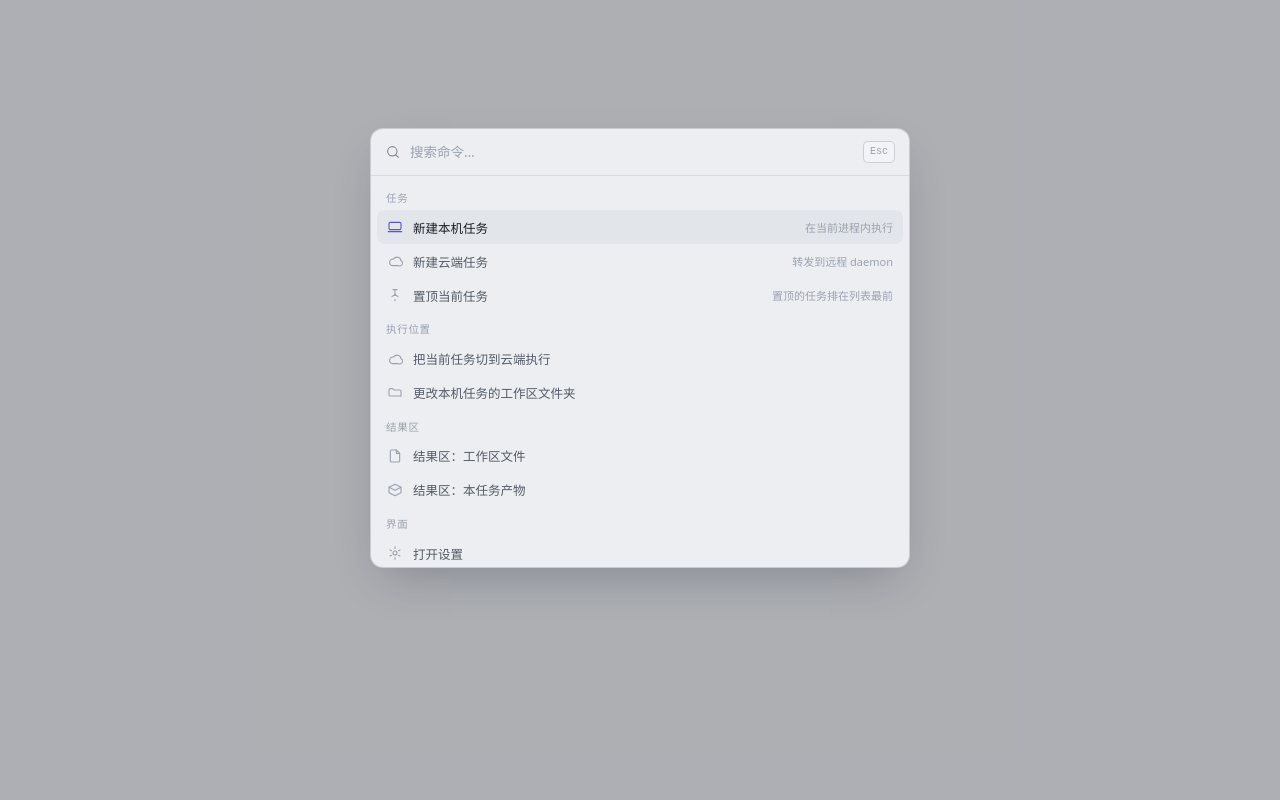
搜索 › 没有匹配时给出空状态
In the field with placeholder "搜索命令…": coordinates (632, 152) [410, 141, 854, 163], type "zzzz"
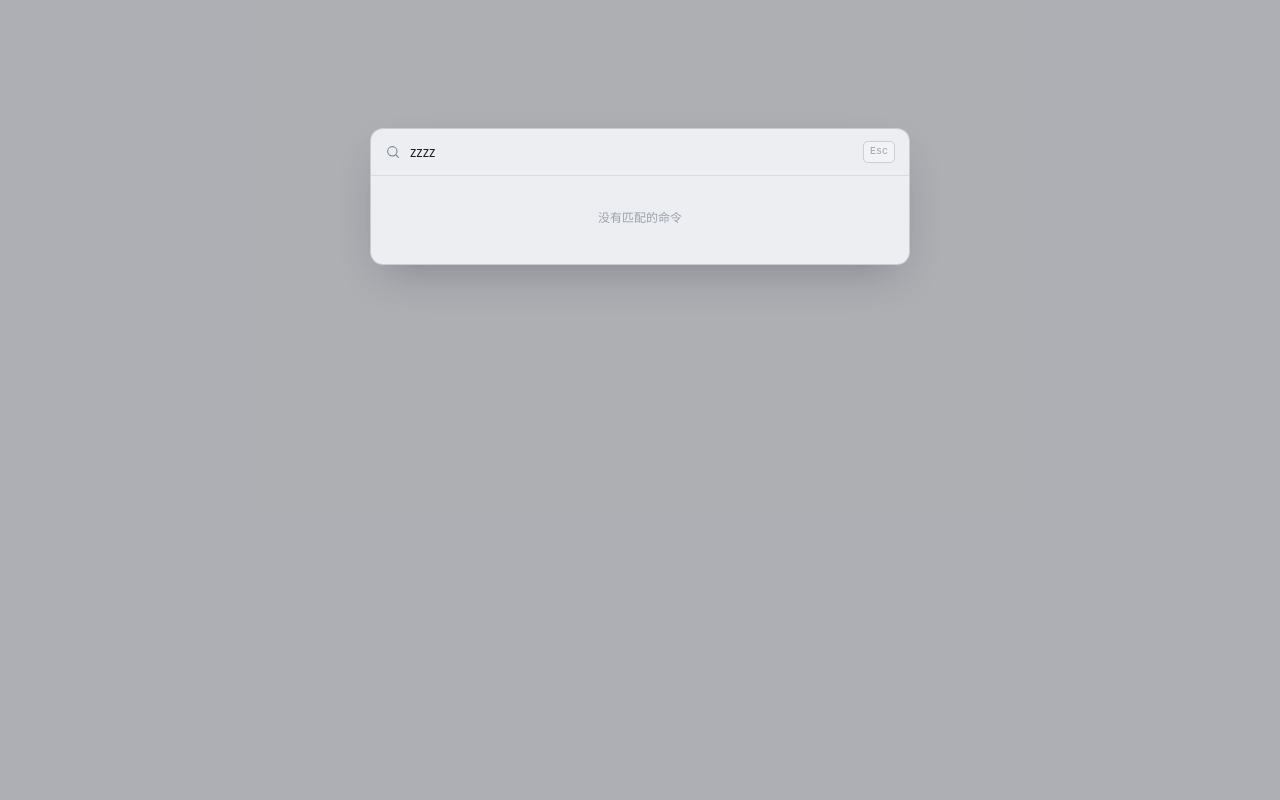
Expected: the text "没有匹配的命令" is shown, [598, 209, 682, 226]
